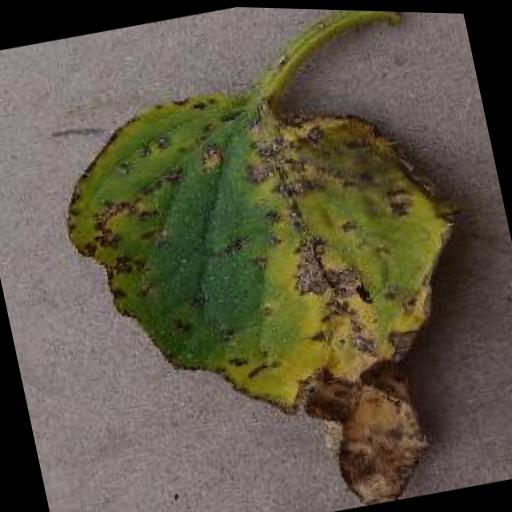Bacterial Spot: (29, 28, 512, 512)
